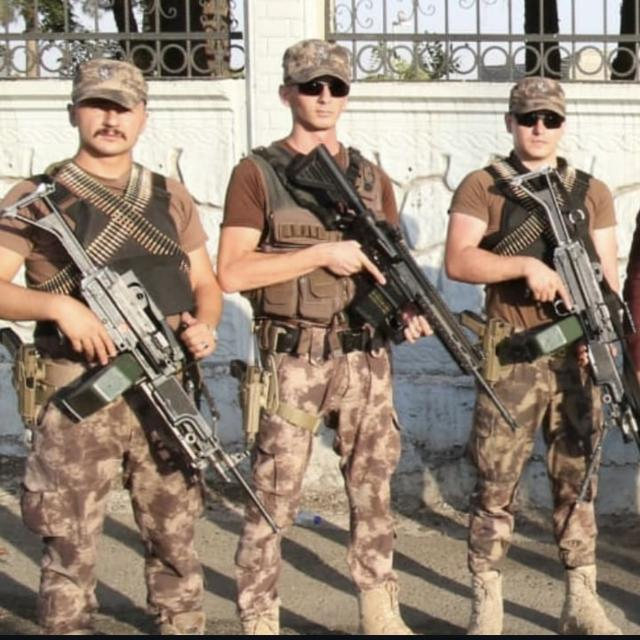poh_personel: (218, 37, 432, 640), (0, 56, 220, 640), (445, 75, 623, 640)
